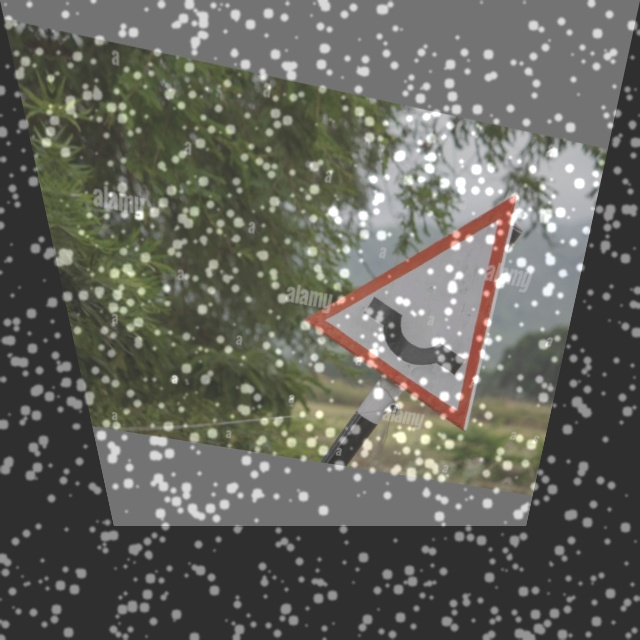Dangerous_Dip: (281, 152, 557, 429)
